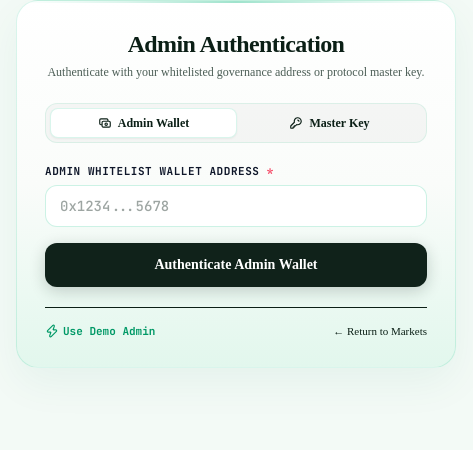
Scenario: AdminLoginForm Component › switches to Master Key tab and validates required key length
Step 1. Click the button "Master Key" → (330, 122), box [237,108,422,138]
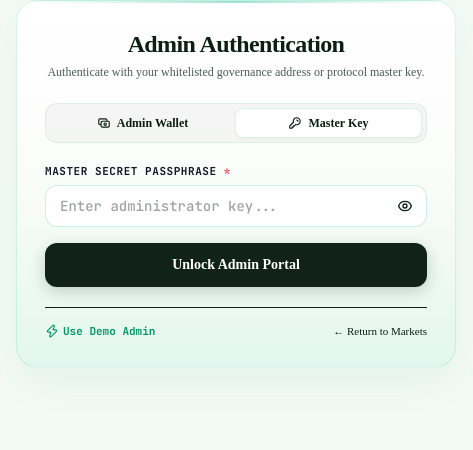
Result: the password field labelled "Master Secret Passphrase *" is shown at [45,185,427,227]
Step 2. Click the button "Unlock Admin Portal" → (236, 265), box [45,243,427,287]
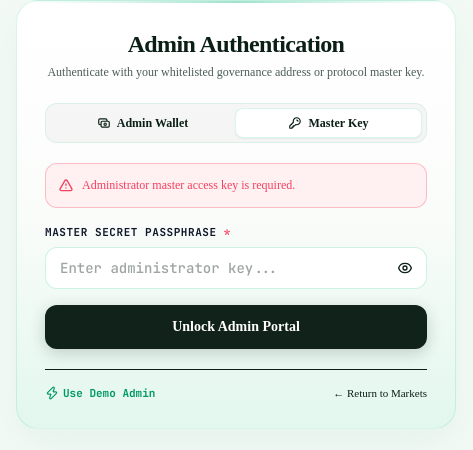
Result: the text "Administrator master access key is required." is shown at [82,176,295,195]
Step 3. Type "123" into the password field labelled "Master Secret Passphrase *" → (236, 268), box [45,246,427,288]
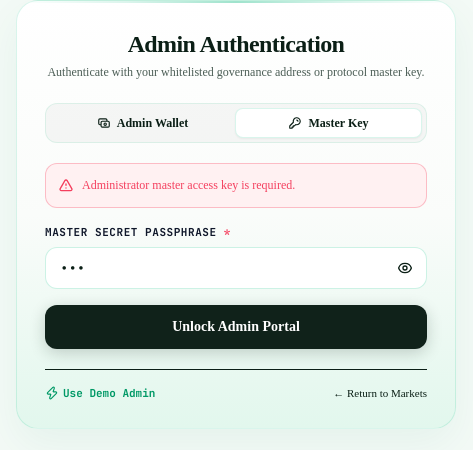
Step 4. Click the button "Unlock Admin Portal" → (236, 326), box [45,304,427,348]
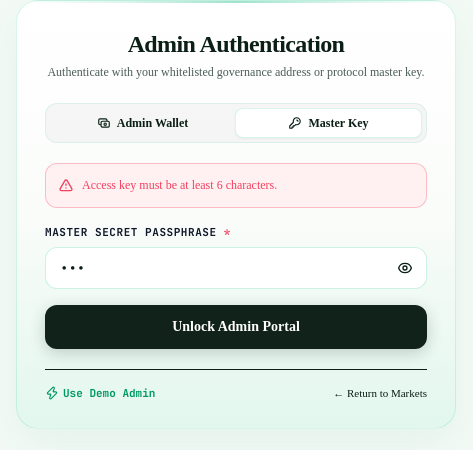
Result: the text "Access key must be at least 6 characters." is shown at [82,176,277,195]
